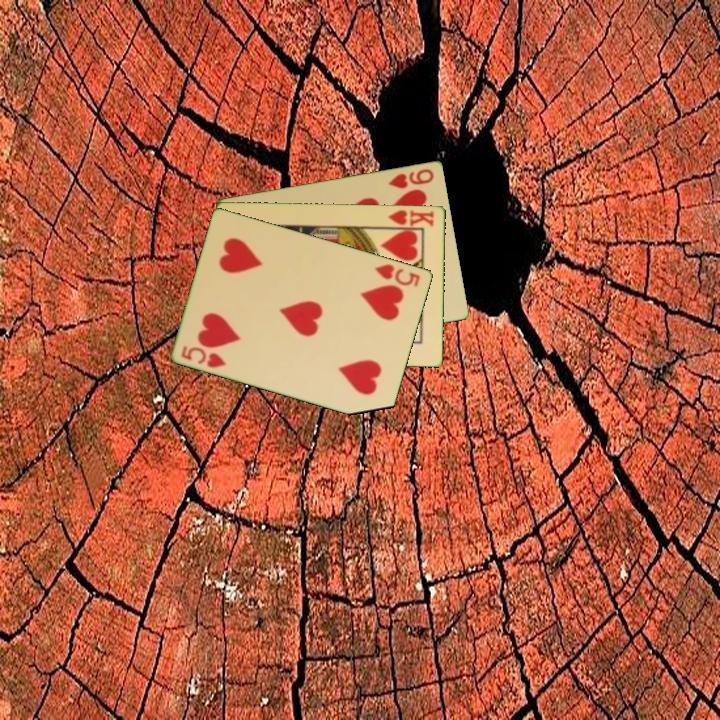5h: (371, 260, 423, 289), (178, 342, 229, 371)
9h: (385, 165, 437, 191)
Kh: (382, 206, 437, 231)
